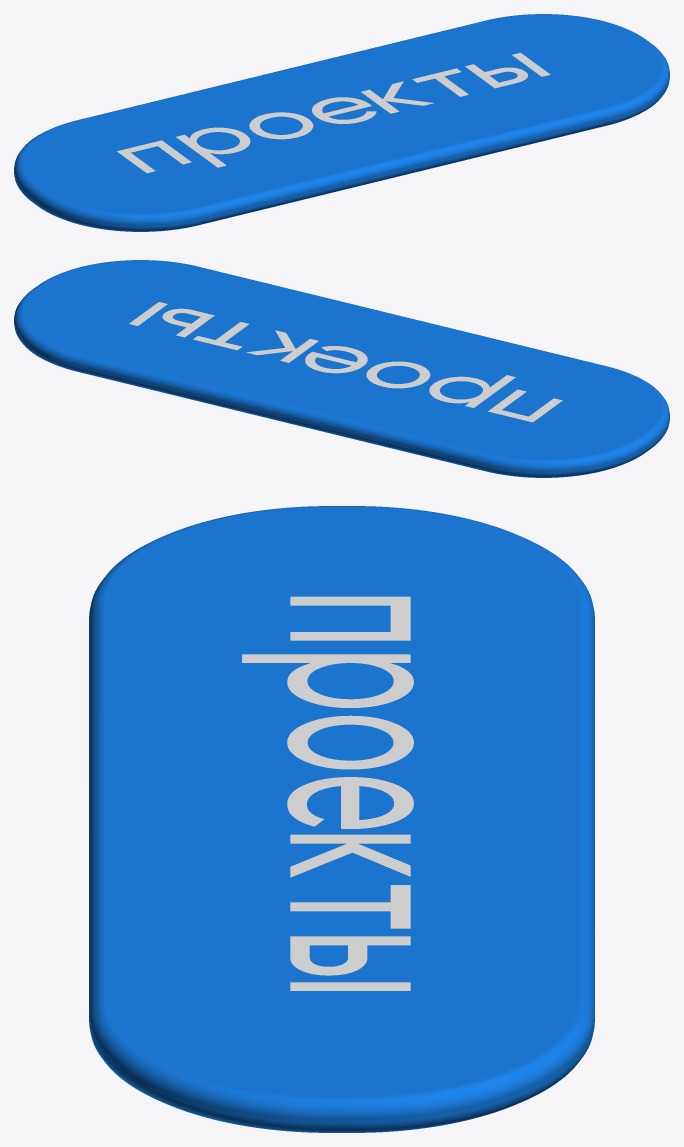
File: projects.glb
3 views of the same model, one above another, from view 1: azimuth 30°, elevation 25°; view 2: azimuth 150°, elevation 25°; view 3: azimuth 270°, elevation 25° (orthographic). The views are drawn at different scales.
Parts seen in each view (by area): view 1: Rectangle 6; view 2: Rectangle 6; view 3: Rectangle 6.
Boxes of the visible parts, x1,y1,x2,y2 form: Rectangle 6: (14, 14, 669, 231); Rectangle 6: (14, 260, 669, 477); Rectangle 6: (89, 506, 594, 1132).
Size of the model in its own units: 5.91 by 0.1702 by 2.09.
